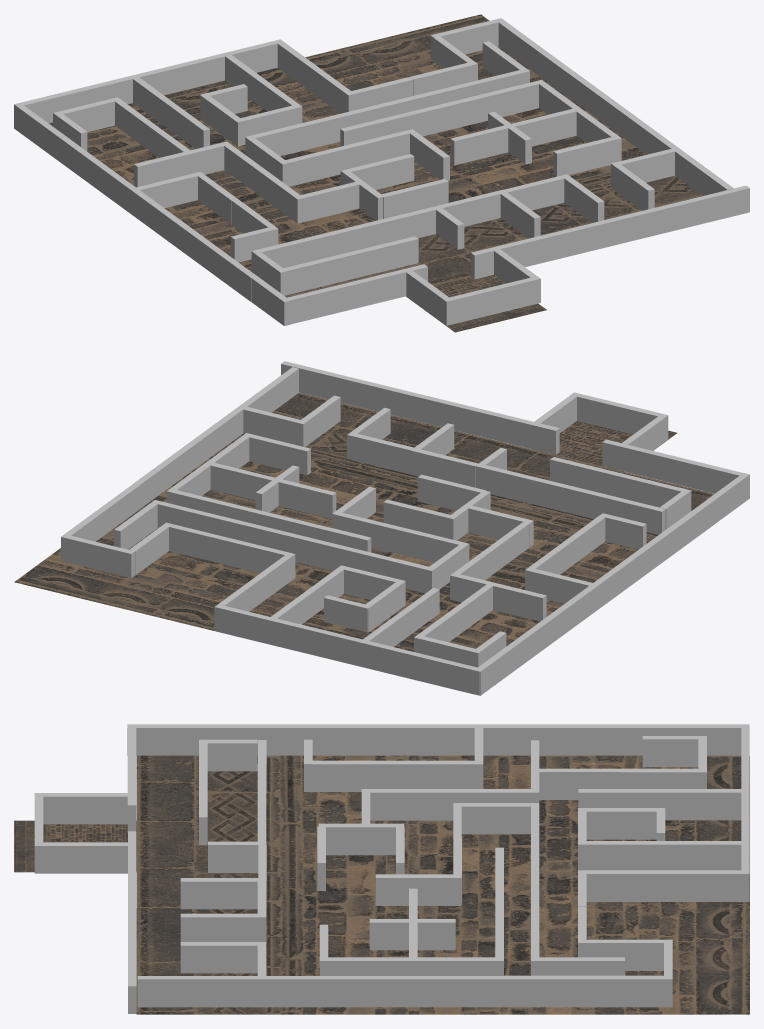
File: Maze finalized.fbx
The picture shows the model from 3 angles, top to bottom: view 1: azimuth 30°, elevation 25°; view 2: azimuth 150°, elevation 25°; view 3: azimuth 270°, elevation 25°; orthographic projection. The views are drawn at different scales.
Visible parts, largest first — view 1: Plane, Wall Normal.047, Wall Normal.020, Wall Normal.035, Wall Normal.031, Wall Normal.039, Wall Normal.034, Wall Normal.043, Wall Normal.049, Wall Normal.029, Wall Normal.052, Wall Normal.019 (+32 smaller); view 2: Plane, Wall Normal.047, Wall Normal.020, Wall Normal.031, Wall Normal.035, Wall Normal.034, Wall Normal.043, Wall Normal.049, Wall Normal.033, Wall Normal.018, Wall Normal.039, Wall Normal.022 (+31 smaller); view 3: Plane, Wall Normal.031, Wall Normal.020, Wall Normal.039, Wall Normal.017, Wall Normal.052, Wall Normal.025, Wall Normal.029, Wall Normal.042, Wall Normal.043, Wall Normal.034, Wall Normal.049 (+27 smaller).
Part boxes in pixels (<box>): Plane: <box>49,14,702,297</box>; Wall Normal.047: <box>295,190,501,264</box>; Wall Normal.020: <box>608,130,749,245</box>; Wall Normal.035: <box>251,236,418,295</box>; Wall Normal.031: <box>92,161,256,301</box>; Wall Normal.039: <box>406,249,540,325</box>; Wall Normal.034: <box>251,264,427,325</box>; Wall Normal.043: <box>340,154,448,220</box>; Wall Normal.049: <box>450,109,576,165</box>; Wall Normal.029: <box>224,144,361,223</box>; Wall Normal.052: <box>497,174,604,238</box>; Wall Normal.019: <box>404,80,540,136</box>; Plane: <box>14,392,714,677</box>; Wall Normal.047: <box>411,447,622,518</box>; Wall Normal.020: <box>213,361,421,450</box>; Wall Normal.031: <box>554,497,717,638</box>; Wall Normal.035: <box>550,457,691,534</box>; Wall Normal.034: <box>602,439,749,521</box>; Wall Normal.043: <box>383,474,490,540</box>; Wall Normal.049: <box>210,463,336,518</box>; Wall Normal.033: <box>418,394,559,454</box>; Wall Normal.018: <box>273,618,414,678</box>; Wall Normal.039: <box>534,392,668,450</box>; Wall Normal.022: <box>450,573,546,636</box>; Plane: <box>136,755,749,1014</box>; Wall Normal.031: <box>203,724,570,755</box>; Wall Normal.020: <box>128,908,320,1013</box>; Wall Normal.039: <box>34,793,127,873</box>; Wall Normal.017: <box>321,976,504,1007</box>; Wall Normal.052: <box>180,878,266,941</box>; Wall Normal.025: <box>566,724,749,755</box>; Wall Normal.029: <box>361,789,539,825</box>; Wall Normal.042: <box>319,924,503,975</box>; Wall Normal.043: <box>317,823,404,890</box>; Wall Normal.034: <box>127,724,213,832</box>; Wall Normal.049: <box>369,888,455,957</box>.
Size of the model in its own units: 10132 by 508 by 12001.
